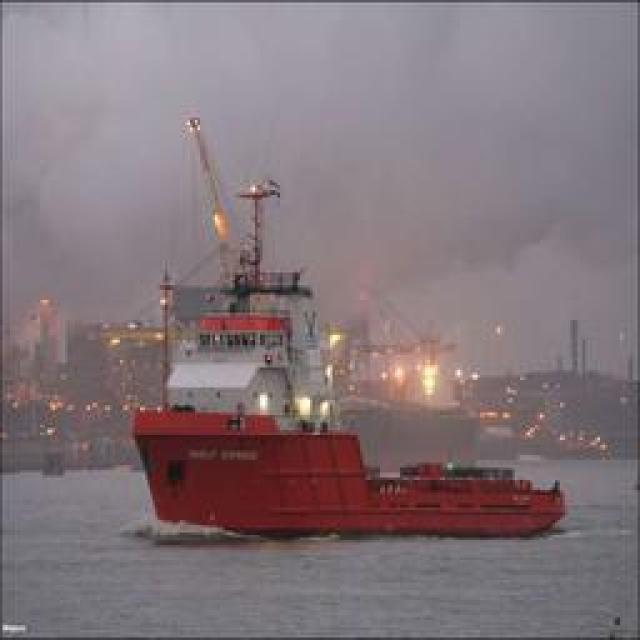ship2: (131, 116, 567, 541)
